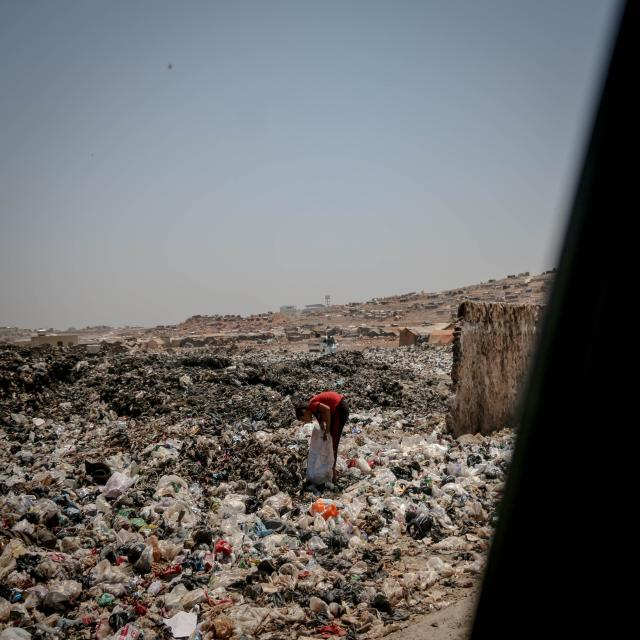plastic: (181, 498, 345, 609)
trash: (371, 450, 481, 538)
